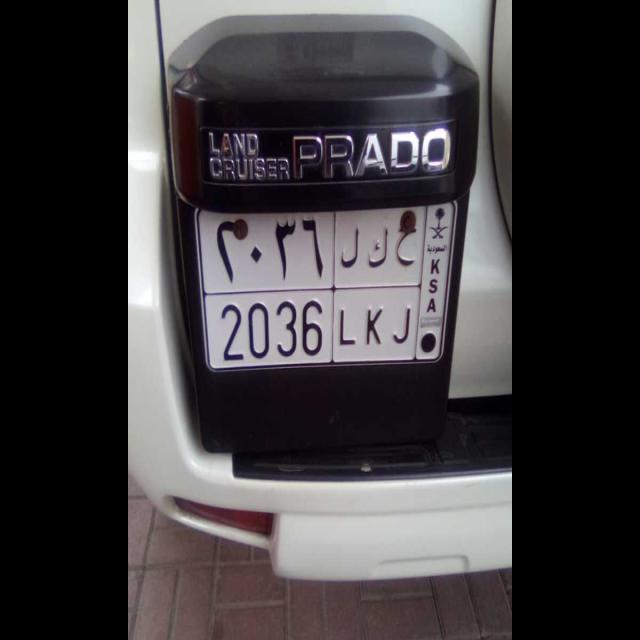license_plate: (212, 286, 415, 368)
